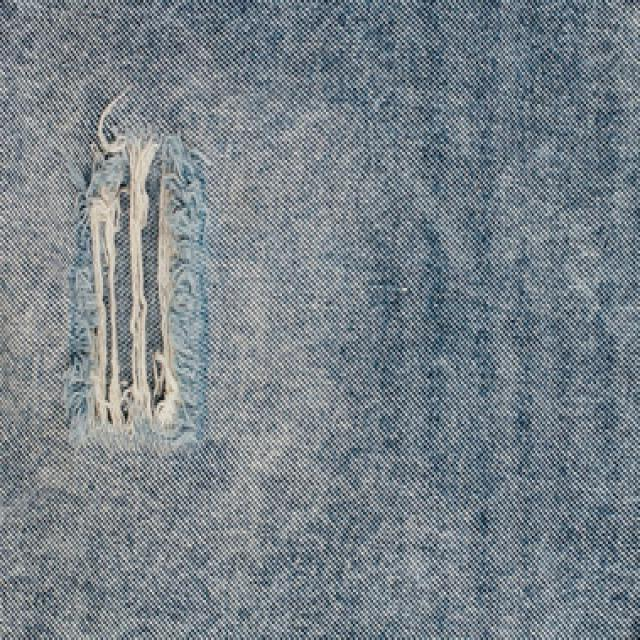Hole: (64, 130, 207, 450)
